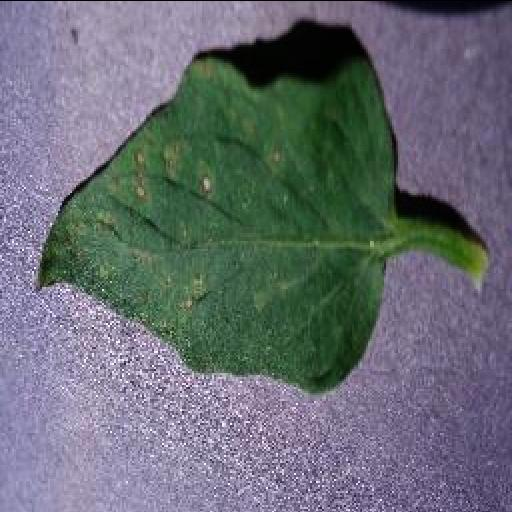disease_tomato: (27, 52, 397, 396)
